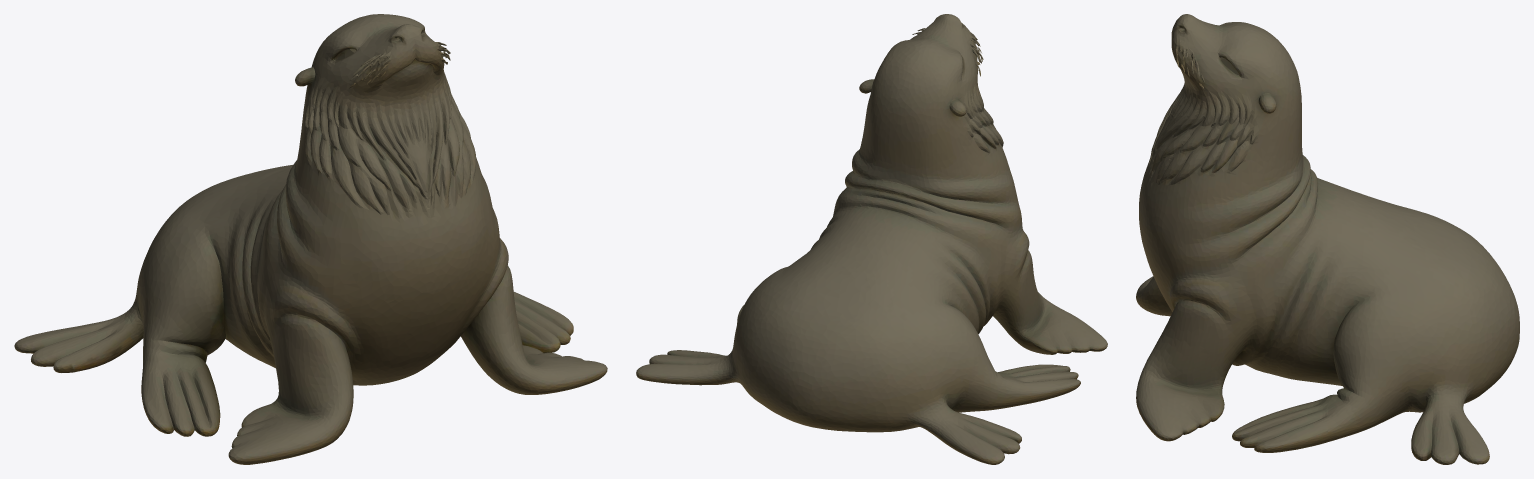
The model's file is lobo_marino.glb.
3 renders of one model, left to right at view 1: azimuth 30°, elevation 25°; view 2: azimuth 150°, elevation 25°; view 3: azimuth 270°, elevation 25°, orthographic. The views are drawn at different scales.
Visible parts, largest first — view 1: tripo_node_e517a46b-46d4-4d0b-8168-19bd0679cded; view 2: tripo_node_e517a46b-46d4-4d0b-8168-19bd0679cded; view 3: tripo_node_e517a46b-46d4-4d0b-8168-19bd0679cded.
Part boxes in pixels (x1,y1,x2,y2): tripo_node_e517a46b-46d4-4d0b-8168-19bd0679cded: (14,14,607,464); tripo_node_e517a46b-46d4-4d0b-8168-19bd0679cded: (636,14,1107,464); tripo_node_e517a46b-46d4-4d0b-8168-19bd0679cded: (1136,14,1519,464).
Bounding box in the file's own units: 1 × 0.804 × 0.7994.
1 material, 1 textured.
